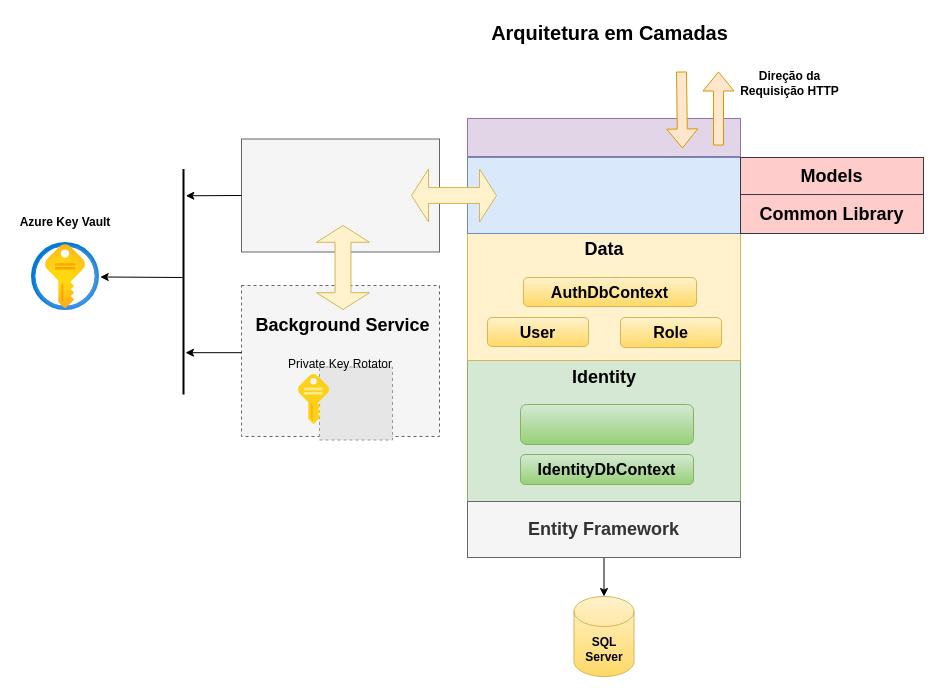
The diagram is 941 pixels wide and 694 high, and some of its shapes have lost their labels. Grey dashed boxes stand in for pictures. Each missing label, with the centre of its shape:
Controllers: point 603,195
Filters: point 603,137
Managers (SignIn & User): point 607,424
Services: point 340,195
